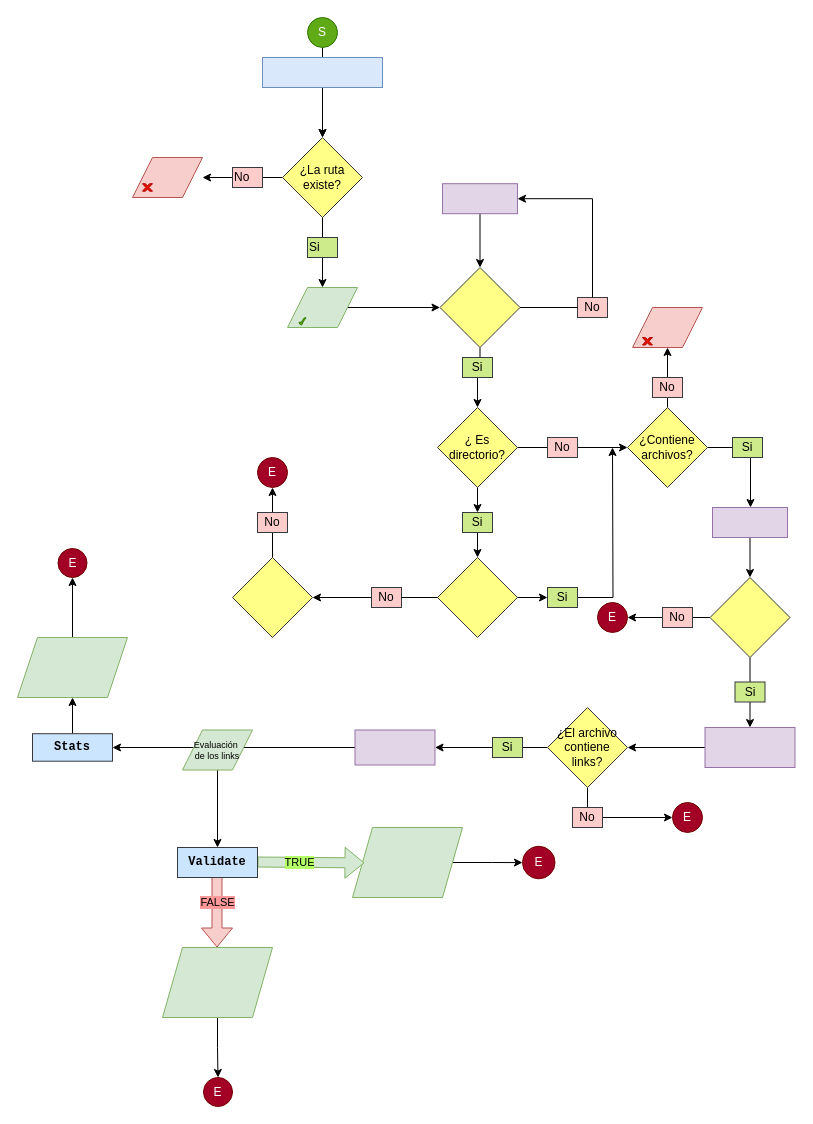
This 813x1124 diagram has some shape labels left out. Here are the shapes that lost their labels. From the top down, the centre of each, then its label:
pixel 322 72: Se indica una ruta
pixel 167 177: Error: "La ruta no existe"
pixel 480 198: Convertir a ruta absoluta
pixel 322 307: Evaluación de la ruta
pixel 479 307: ¿La ruta es absoluta?
pixel 667 327: Error:
pixel 750 522: Almacenar en un [array de archivos]
pixel 272 597: ¿Hay archivos en el [array de archivos]?
pixel 477 597: ¿Hay más directorios dentro?
pixel 749 617: ¿Contiene archivos .md?
pixel 72 667: Total: , Unique: , Broken: ,
pixel 394 747: Almacenar links en un [array de links]
pixel 749 747: Almacenar en un [array de archivos.md]
pixel 407 862: href, text, file, status, Ok/False,
pixel 217 982: href, text, file,
